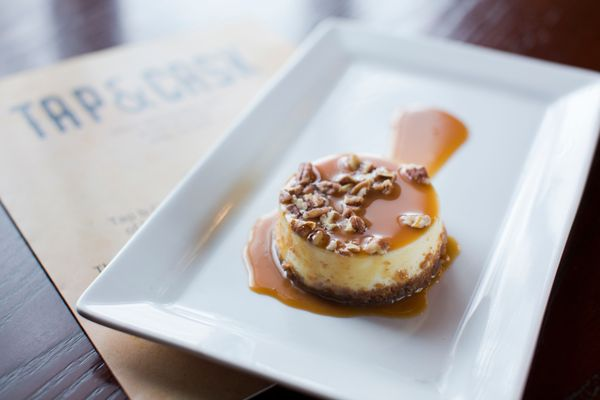salad: (268, 153, 454, 307)
